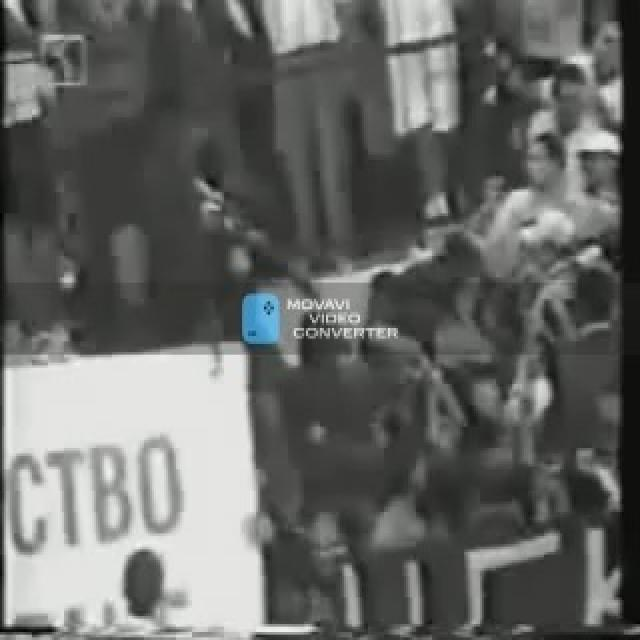non-voilence: (0, 0, 630, 637), (8, 429, 186, 555)
